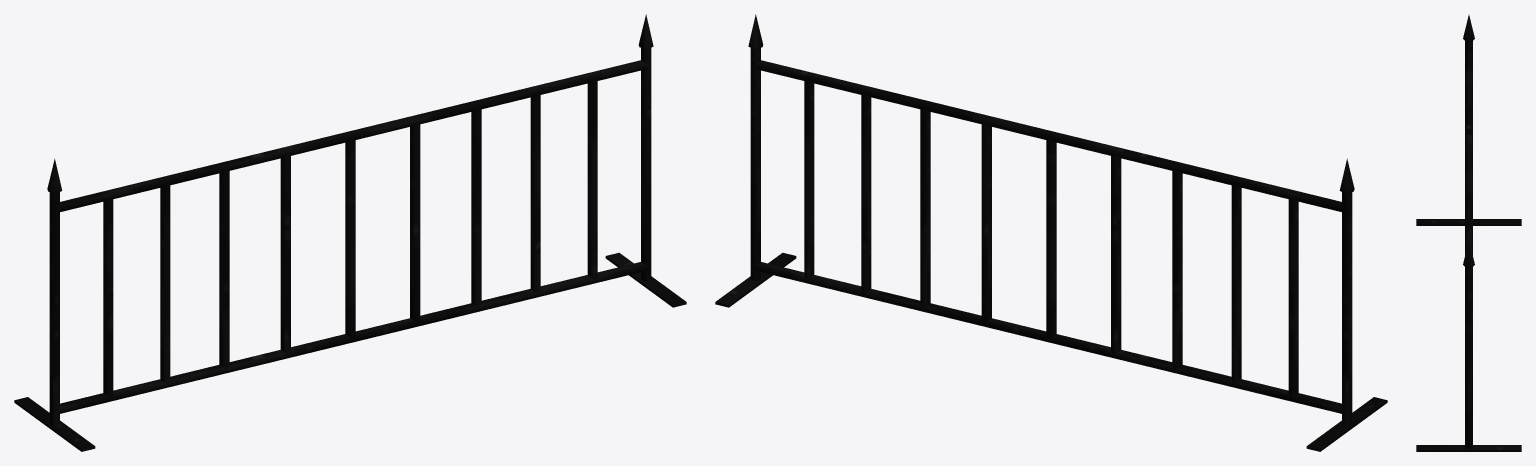
Rendered from sd_barrier_quarter.fbx.
3 renders of one model, left to right at view 1: azimuth 30°, elevation 25°; view 2: azimuth 150°, elevation 25°; view 3: azimuth 270°, elevation 25°, orthographic. The views are drawn at different scales.
Parts seen in each view (by area): view 1: sd_barrier_quarter; view 2: sd_barrier_quarter; view 3: sd_barrier_quarter.
Part boxes in pixels (x1,y1,x2,y2): sd_barrier_quarter: [14, 14, 686, 451]; sd_barrier_quarter: [715, 14, 1387, 451]; sd_barrier_quarter: [1416, 15, 1521, 451].
Size of the model in its own units: 400 by 169 by 77.14.
